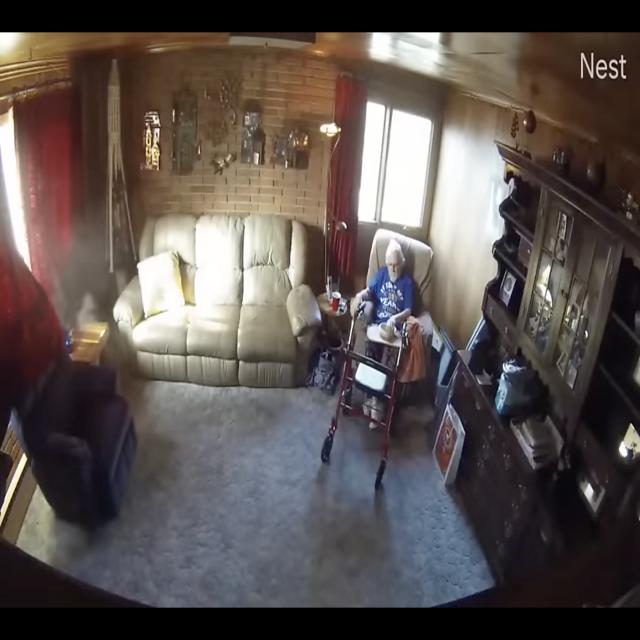Atencao: (45, 209, 142, 372)
